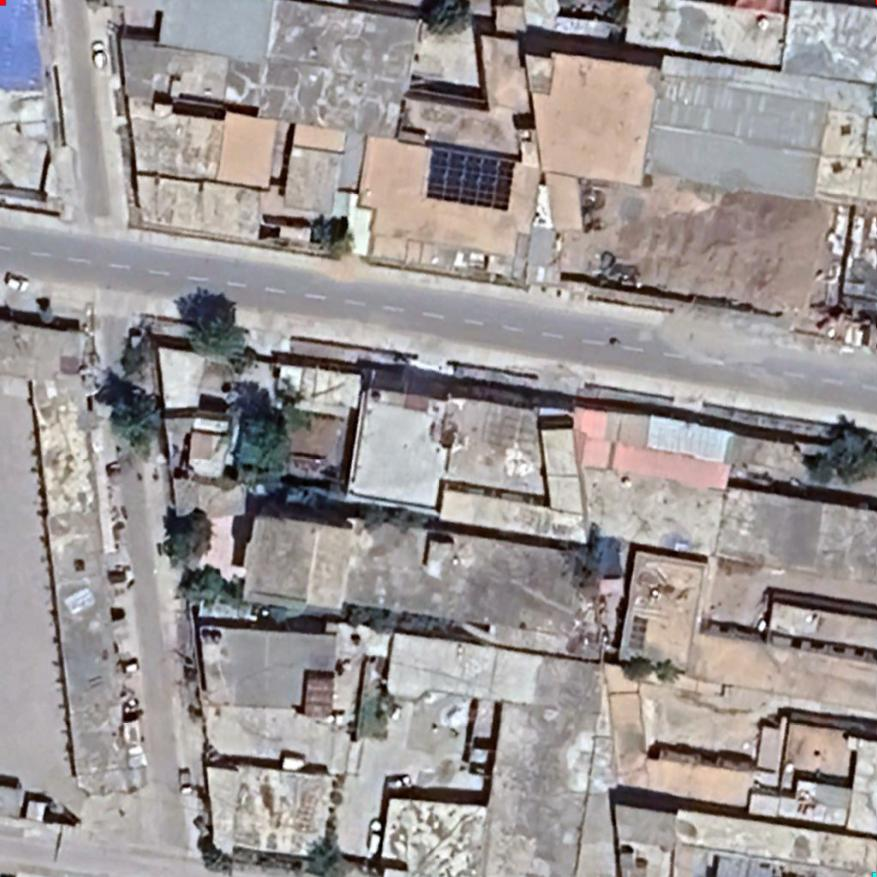Solarpanel: (417, 134, 518, 218)
